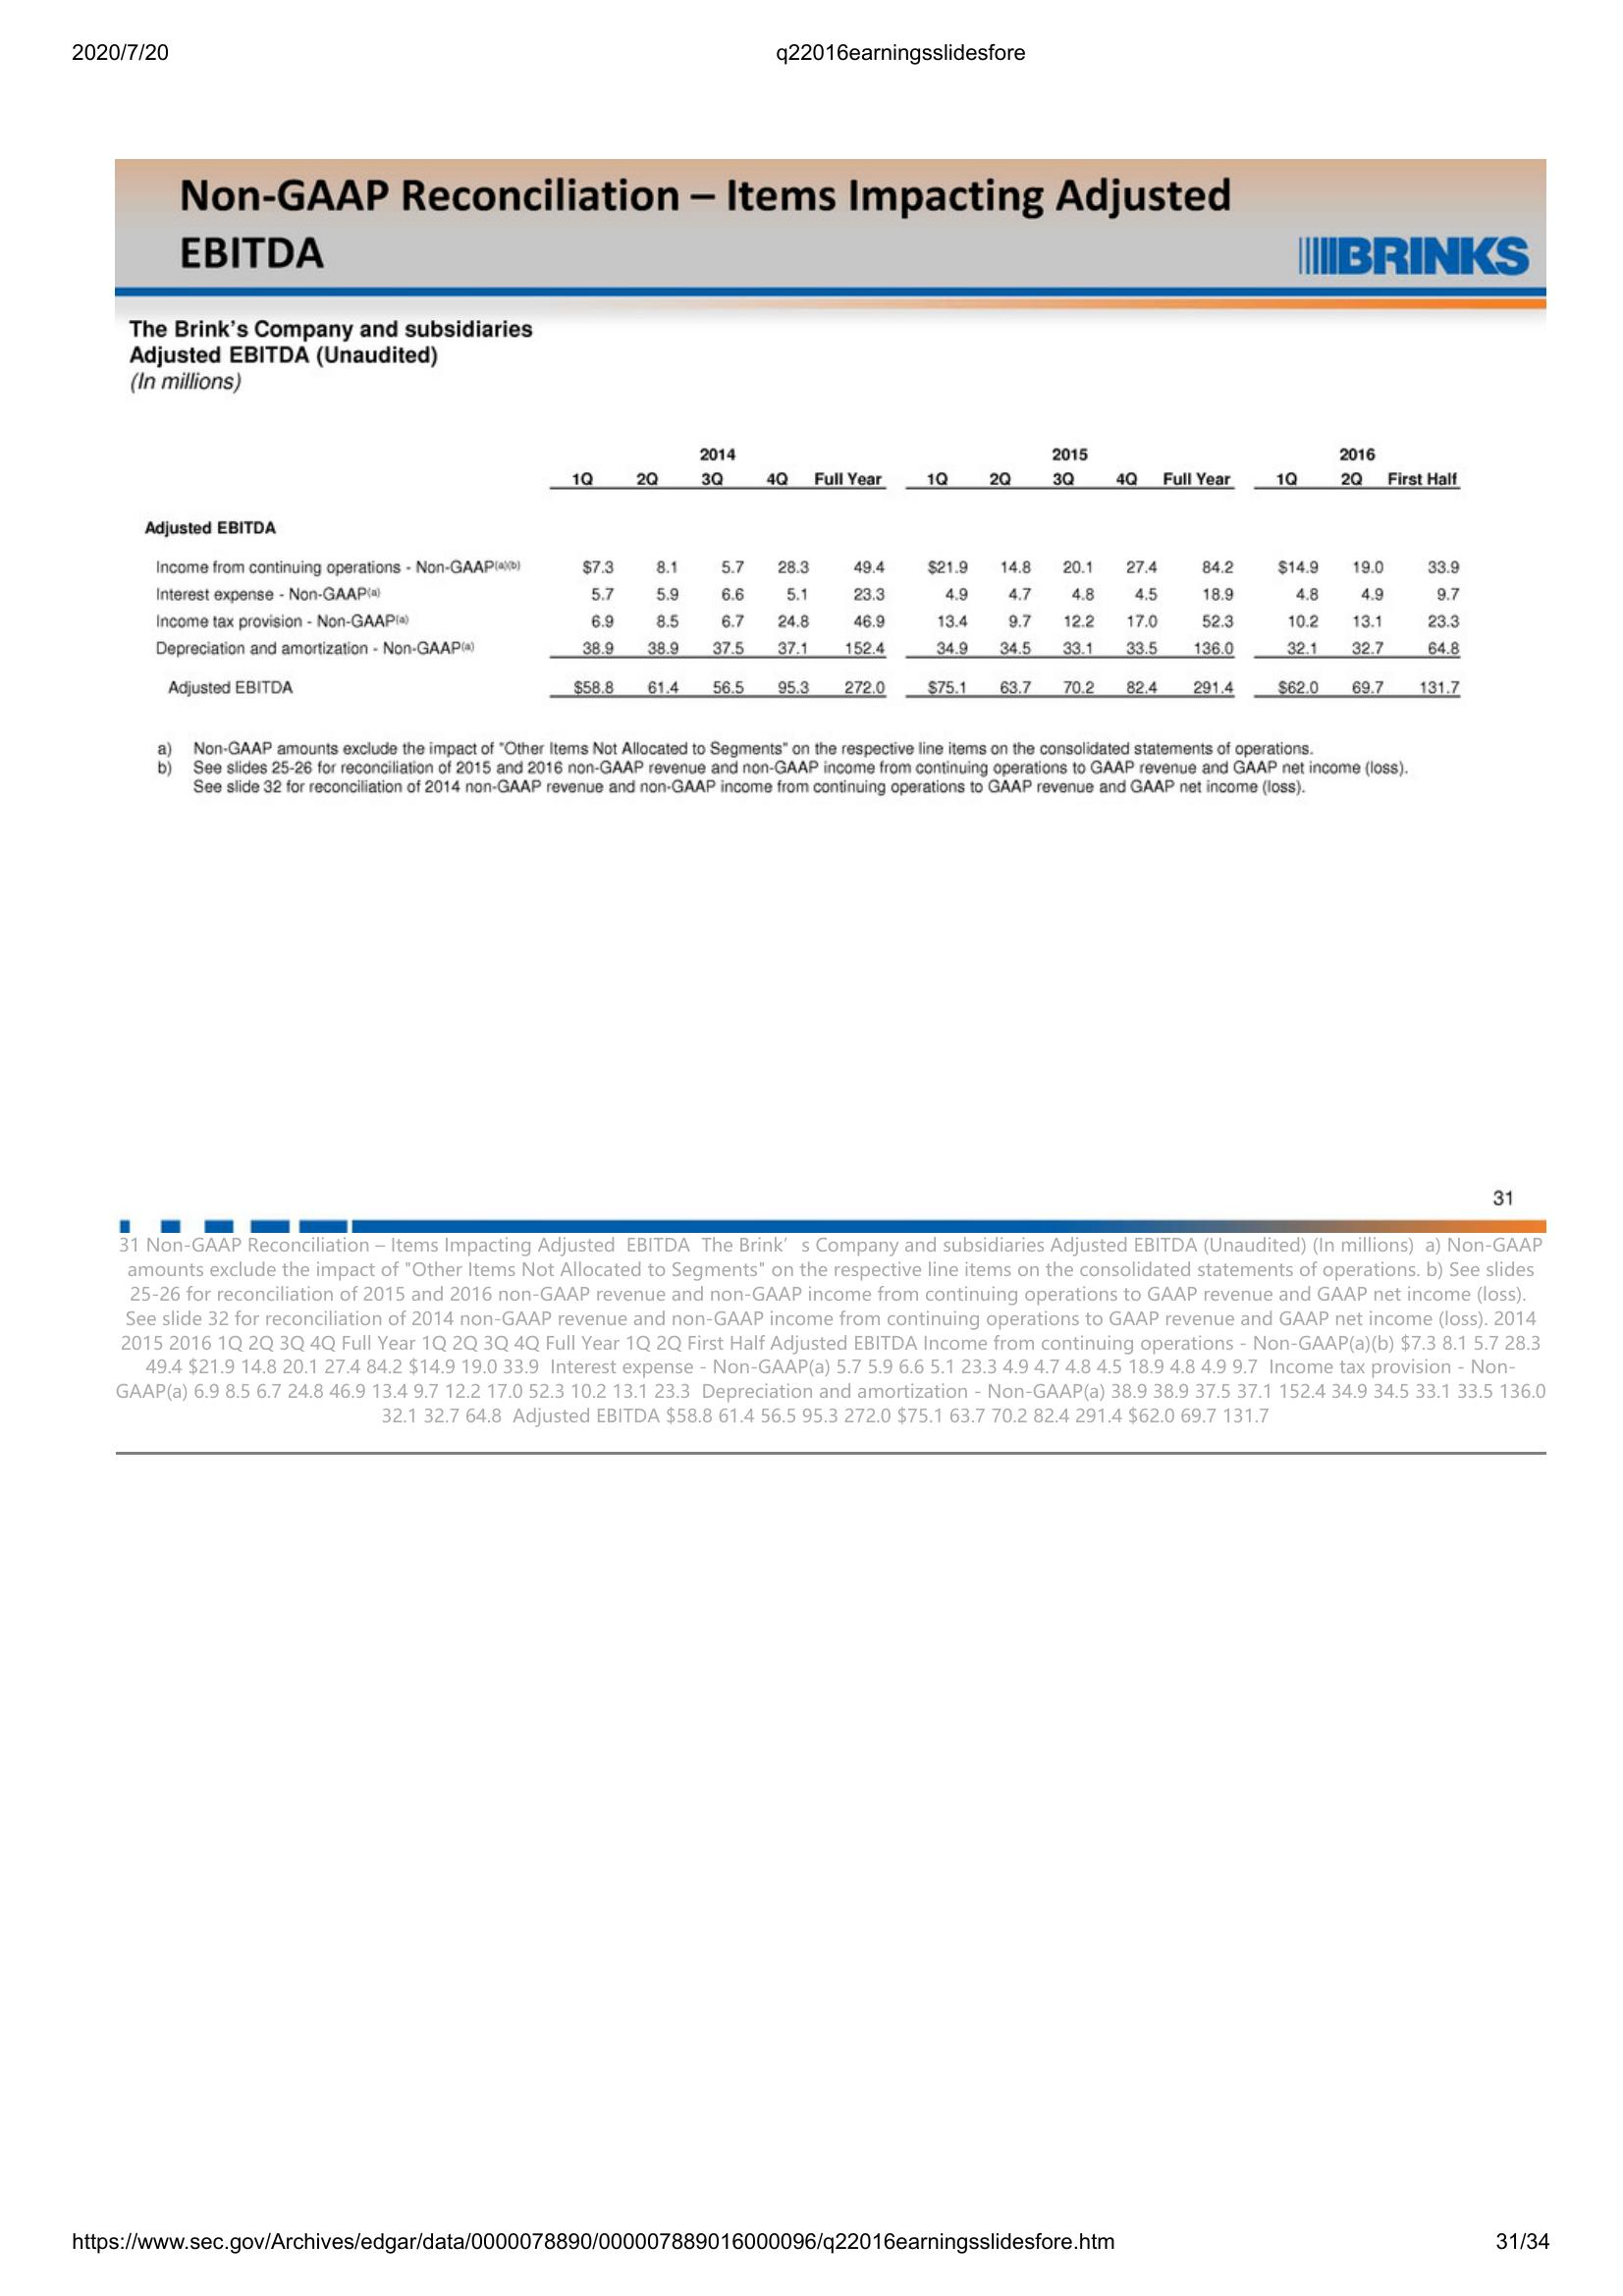table: (144, 437, 1465, 704)
